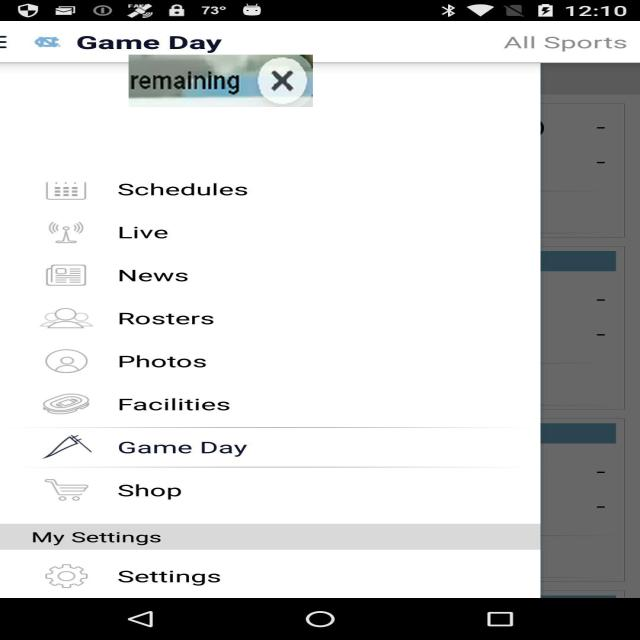misdirection: (128, 55, 313, 107)
